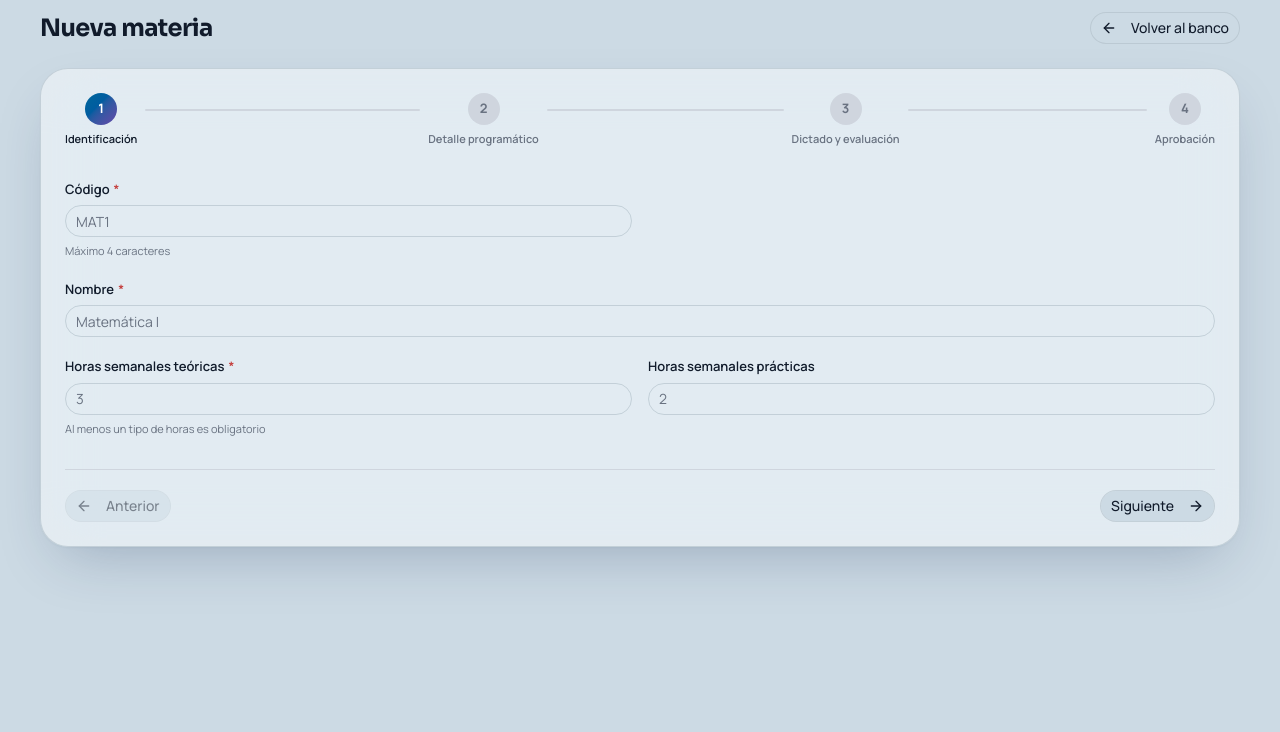
AdministrativoSubjectWizard › a new subject starts with a single regular final attempt
The image size is (1280, 732).
Click the button "Siguiente" at point(1158, 506), box [1100,490,1215,522]
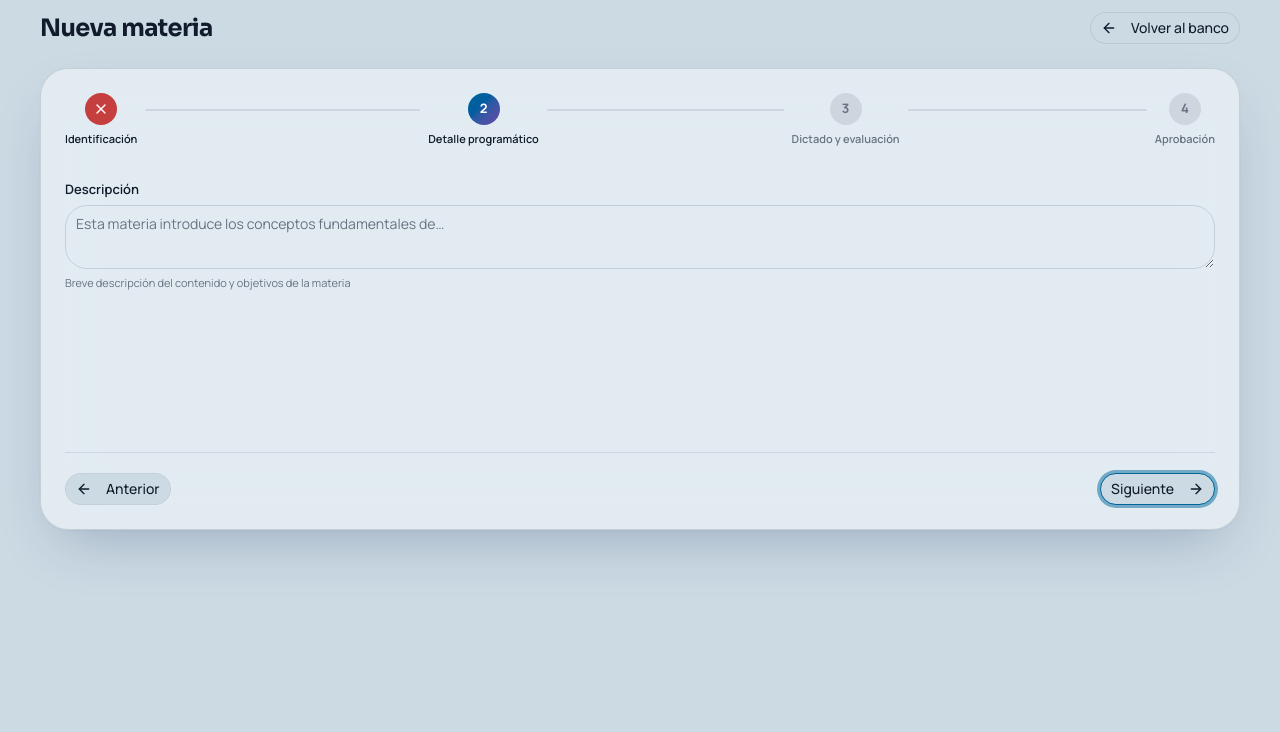
Click the button "Siguiente" at point(1158, 488), box [1100,472,1215,504]
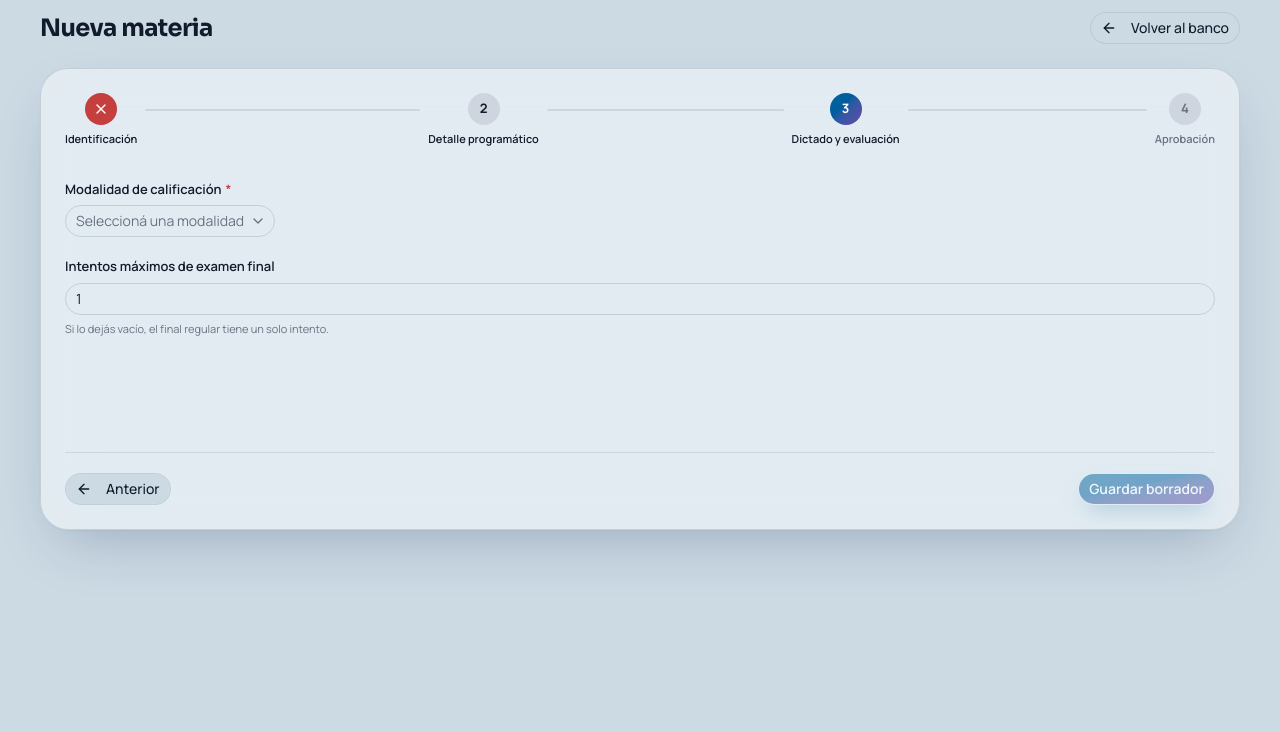
expect the number field holds "1": met, box [65,282,1215,314]
expect the text "Si lo dejás vacío, el final regular tiene un solo intento." is shown: met, box [65,320,329,336]
